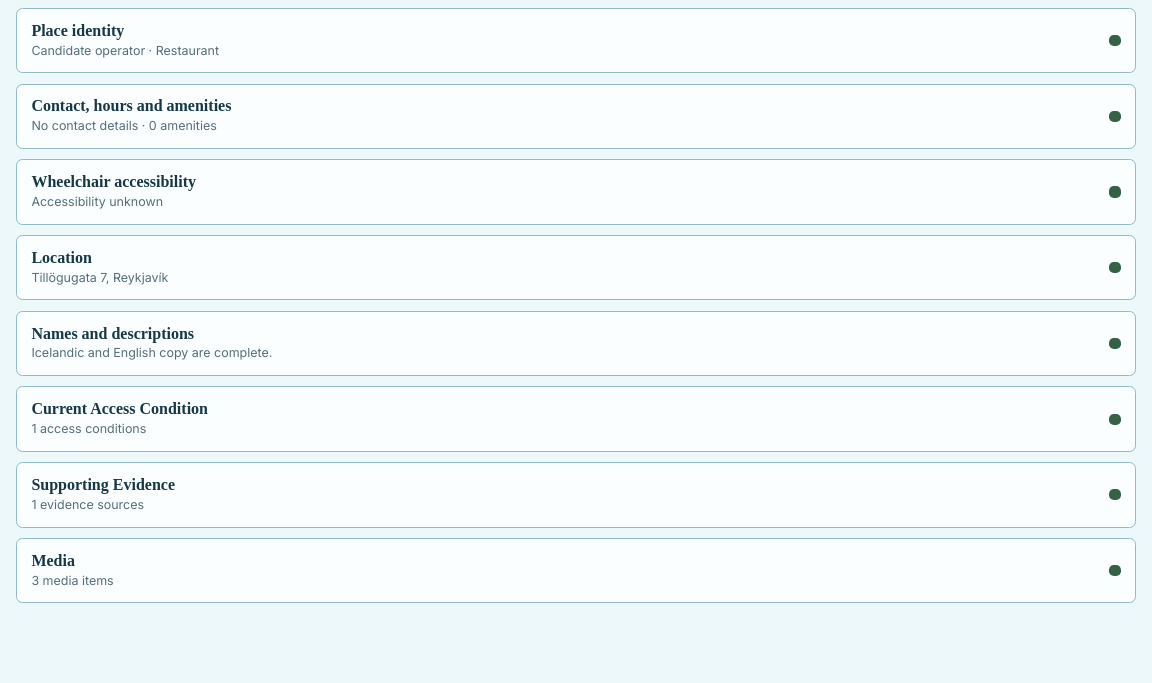
Media section › renders Evidence and Photo items with their current state
(page scrolled)
What coordinates should you click on to do the following:
click the text "Media"
I would click on:
 (53, 560)
Its box is [31,552,75,569].
(page scrolled)
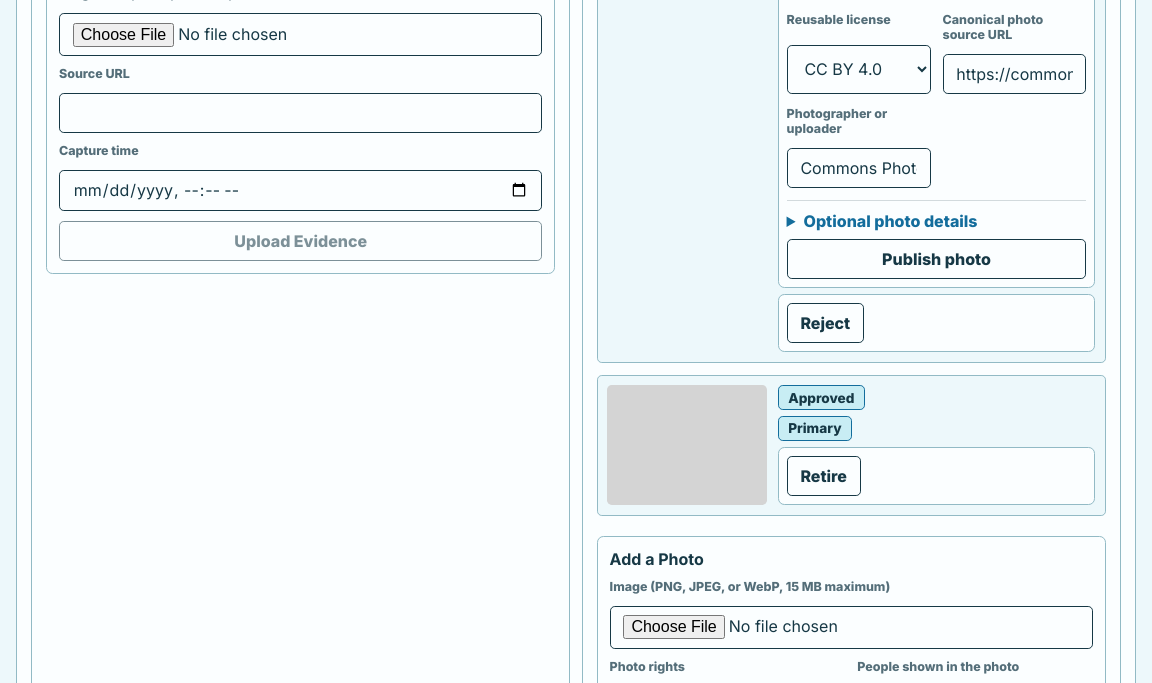
expect the text "Approved" is shown once: met, box [778,386,865,410]
expect the button "Publish photo" is shown: met, box [787,239,1086,279]
expect the dropdown labelled "Reusable license" shows "CC BY 4.0": met, box [787,45,930,94]
